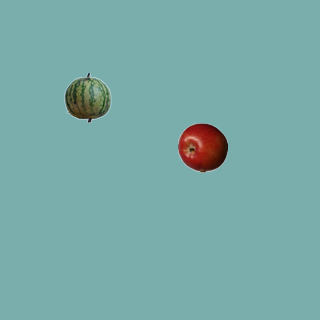Apple Braeburn: (177, 122, 227, 172)
Watermelon: (62, 72, 112, 122)
